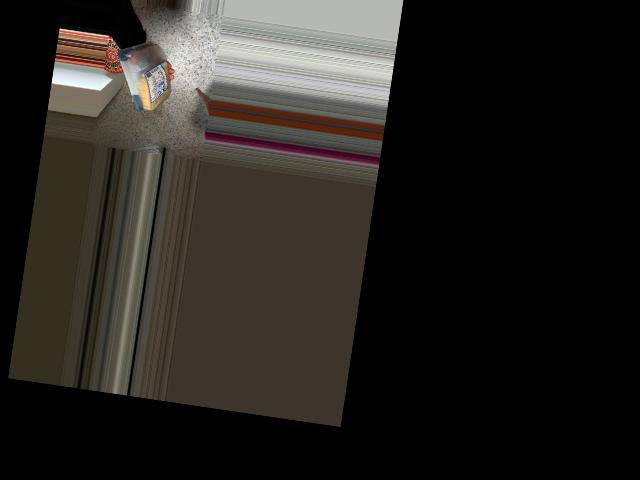cheese: (110, 26, 180, 118)
